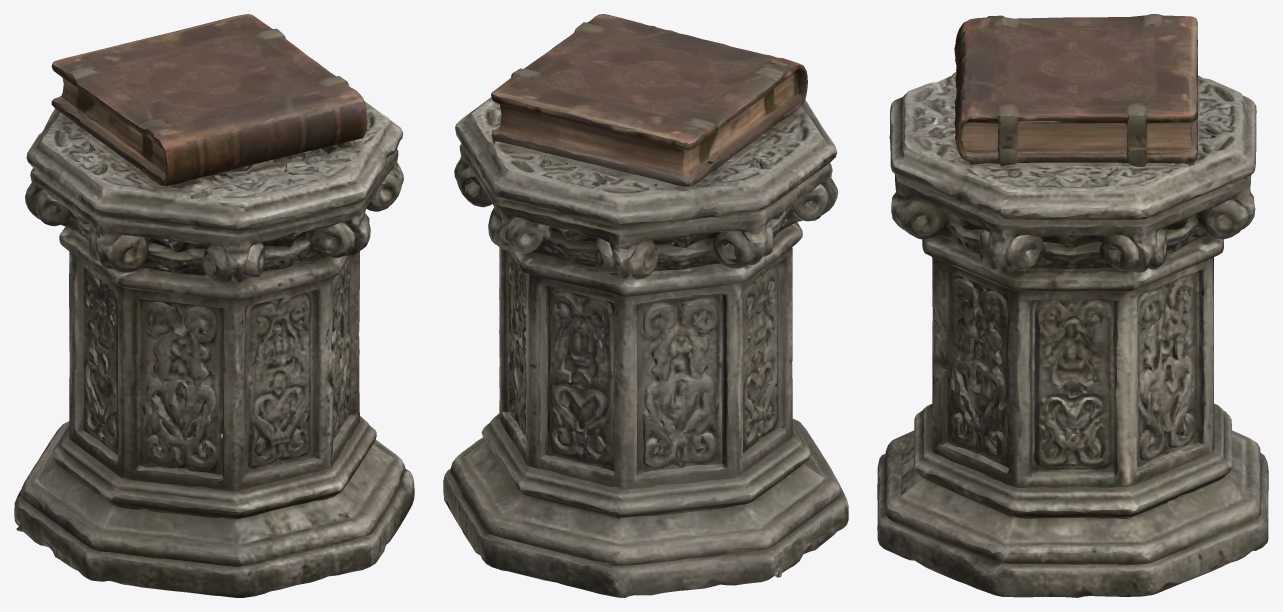
The model's file is treasure-pedestal-opt.glb.
3 views of the same model, side by side, from view 1: azimuth 30°, elevation 25°; view 2: azimuth 150°, elevation 25°; view 3: azimuth 270°, elevation 25° (orthographic). The views are drawn at different scales.
Visible parts, largest first — view 1: geometry_0; view 2: geometry_0; view 3: geometry_0.
Part boxes in pixels (x1=…): geometry_0: x1=14, y1=14, x2=414, y2=597; geometry_0: x1=443, y1=14, x2=848, y2=597; geometry_0: x1=877, y1=14, x2=1268, y2=597.
Size of the model in its own units: 0.7097 by 0.9 by 0.7064.
Materials: 1 (1 with a texture image).
